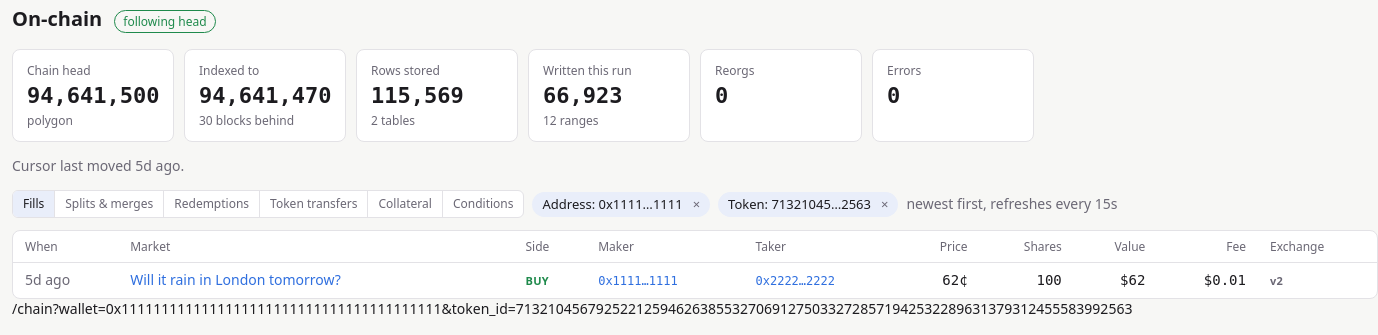
Scenario: On-chain page › switches feed, and only sends the filters that feed accepts
expect the table is shown: met, box [13,231,1377,298]
Click the button "Splits & merges": (109, 204) [54,192,163,217]
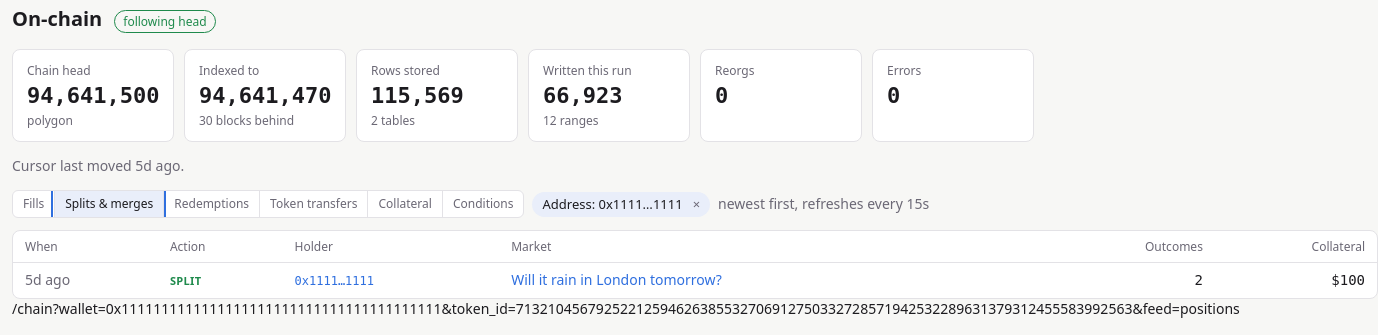
expect the text "Token:" is gone: met
